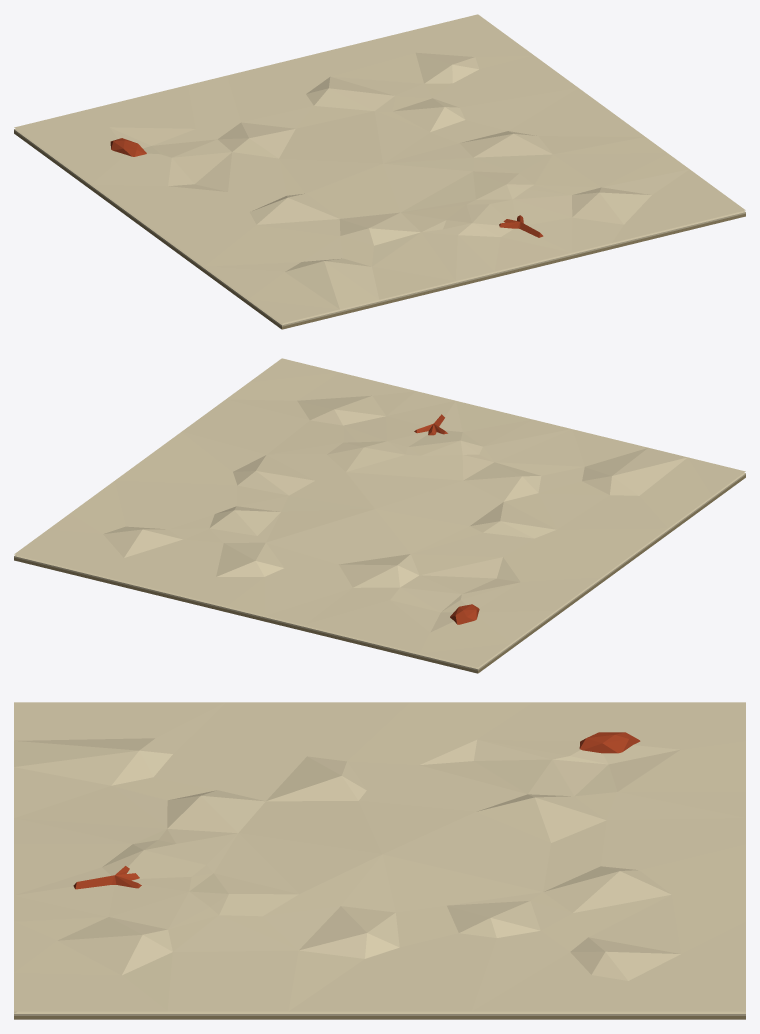
File: anakena-beach-tile-e07759.glb
3 renders of one model, top to bottom at view 1: azimuth 30°, elevation 25°; view 2: azimuth 150°, elevation 25°; view 3: azimuth 270°, elevation 25°, orthographic. The views are drawn at different scales.
Visible parts, largest first — view 1: beach; view 2: beach; view 3: beach, coral-piece.
Part boxes in pixels (x1,y1,x2,y2): beach: (14, 14, 745, 329); beach: (14, 358, 745, 673); beach: (14, 702, 745, 1019); coral-piece: (73, 866, 141, 889).
Bounding box in the file's own units: 4 × 0.1135 × 4.
